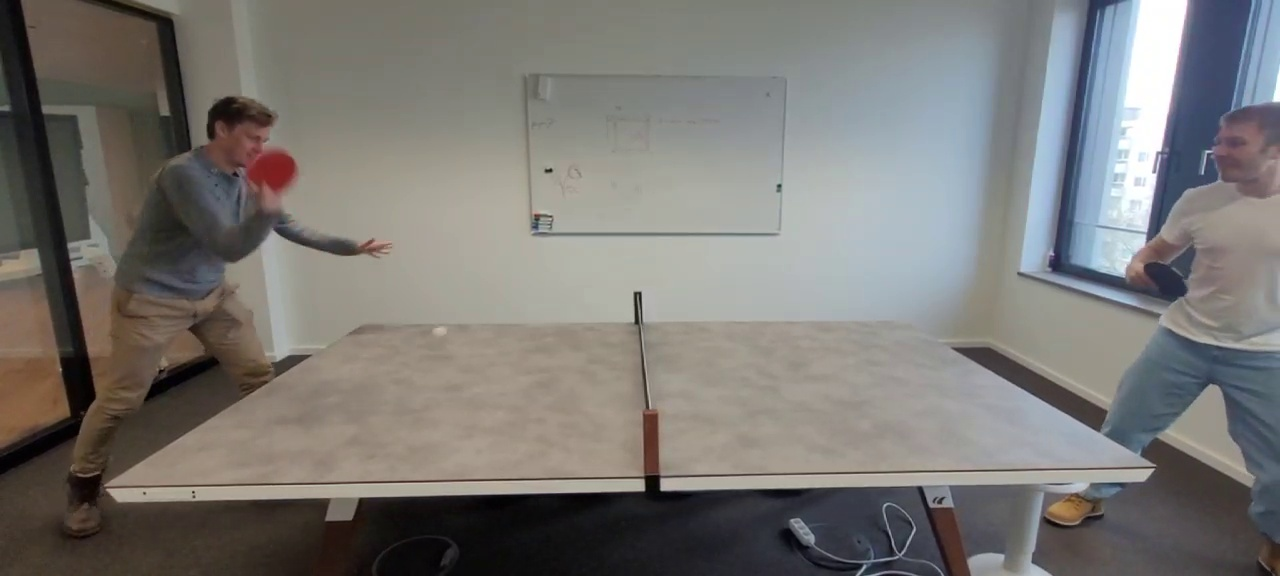1: (248, 152, 298, 190), (1144, 261, 1188, 296)
2: (432, 326, 447, 336)
ttplatte: (104, 321, 1155, 485)
